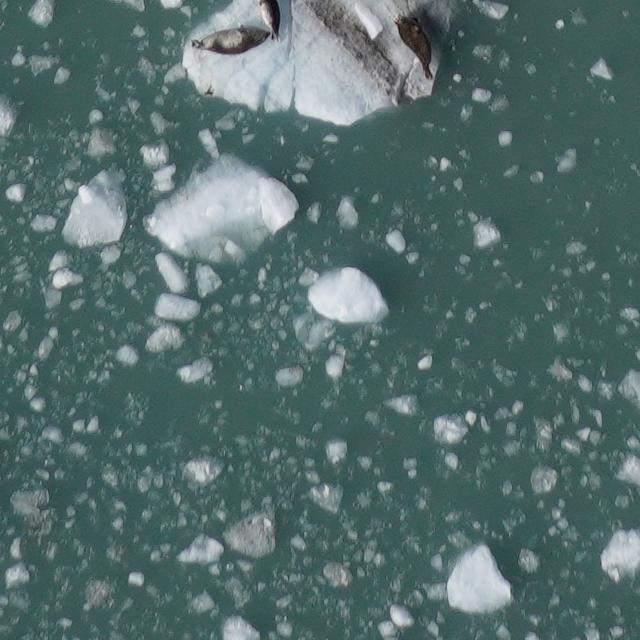seal: (186, 23, 274, 61), (392, 11, 437, 84), (254, 0, 290, 47)
